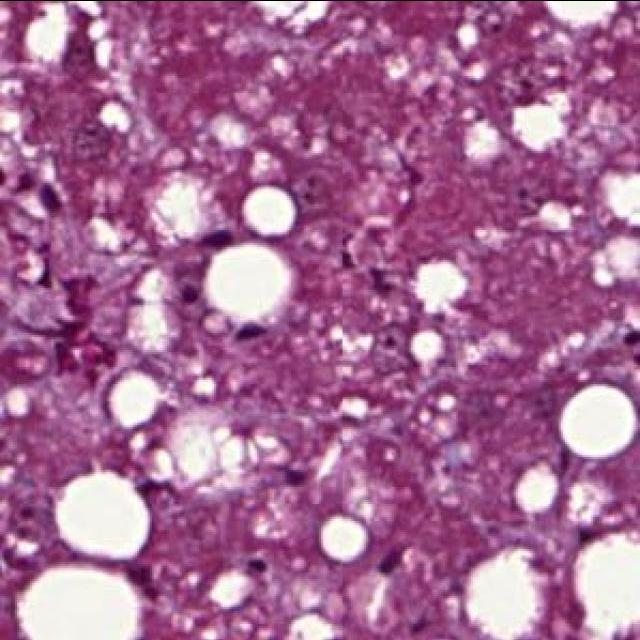ballooning: (150, 411, 288, 490), (152, 174, 227, 242), (126, 269, 171, 351)
